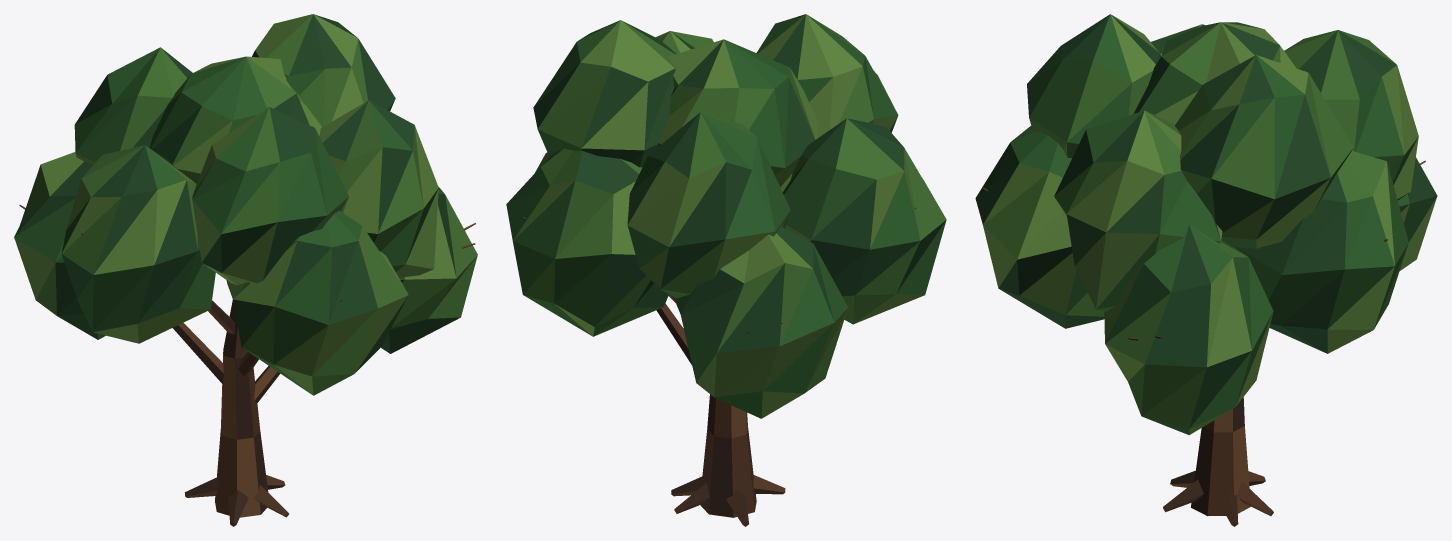
Rendered from tree_beech_green.obj.
The picture shows the model from 3 angles, left to right: view 1: azimuth 30°, elevation 25°; view 2: azimuth 150°, elevation 25°; view 3: azimuth 270°, elevation 25°; orthographic projection. The views are drawn at different scales.
Parts seen in each view (by area): view 1: tree_beech_green; view 2: tree_beech_green; view 3: tree_beech_green.
Part boxes in pixels (bbox=[...]): tree_beech_green: bbox=[14, 14, 477, 526]; tree_beech_green: bbox=[506, 14, 946, 526]; tree_beech_green: bbox=[975, 14, 1437, 526].
Size of the model in its own units: 585 by 650 by 548.
1 material, 1 textured.
